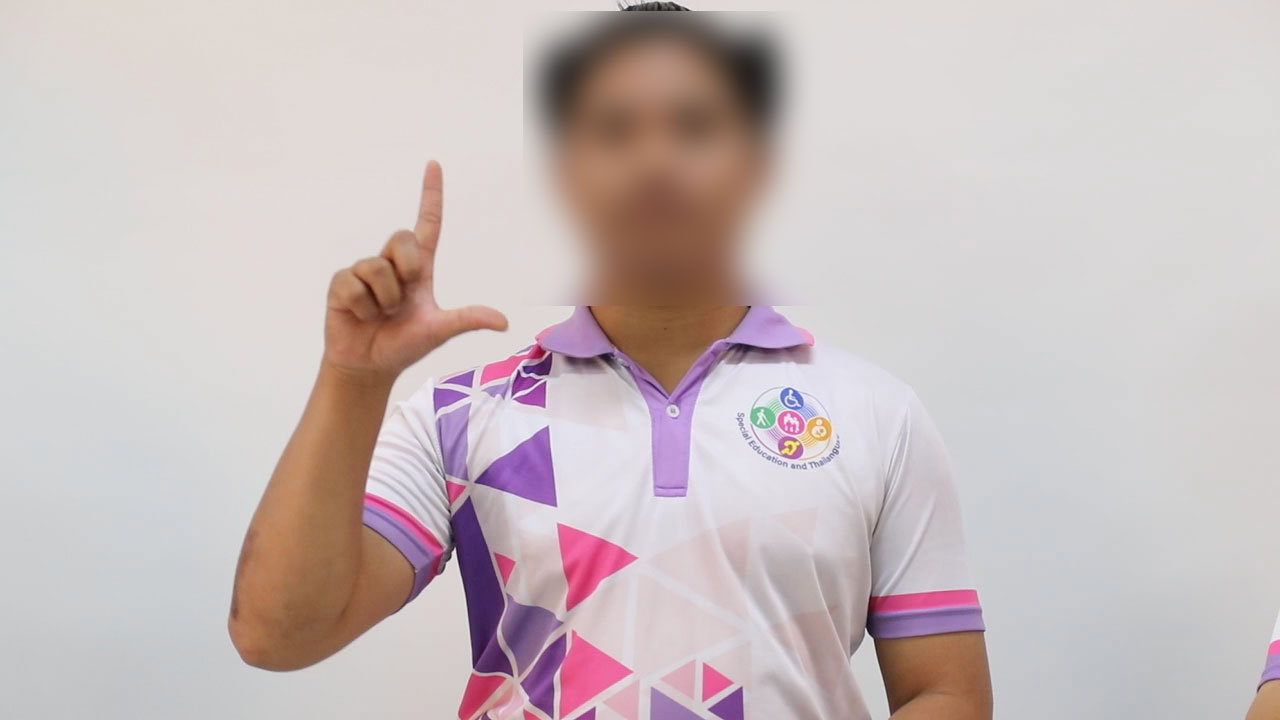lor: (303, 148, 525, 390)
